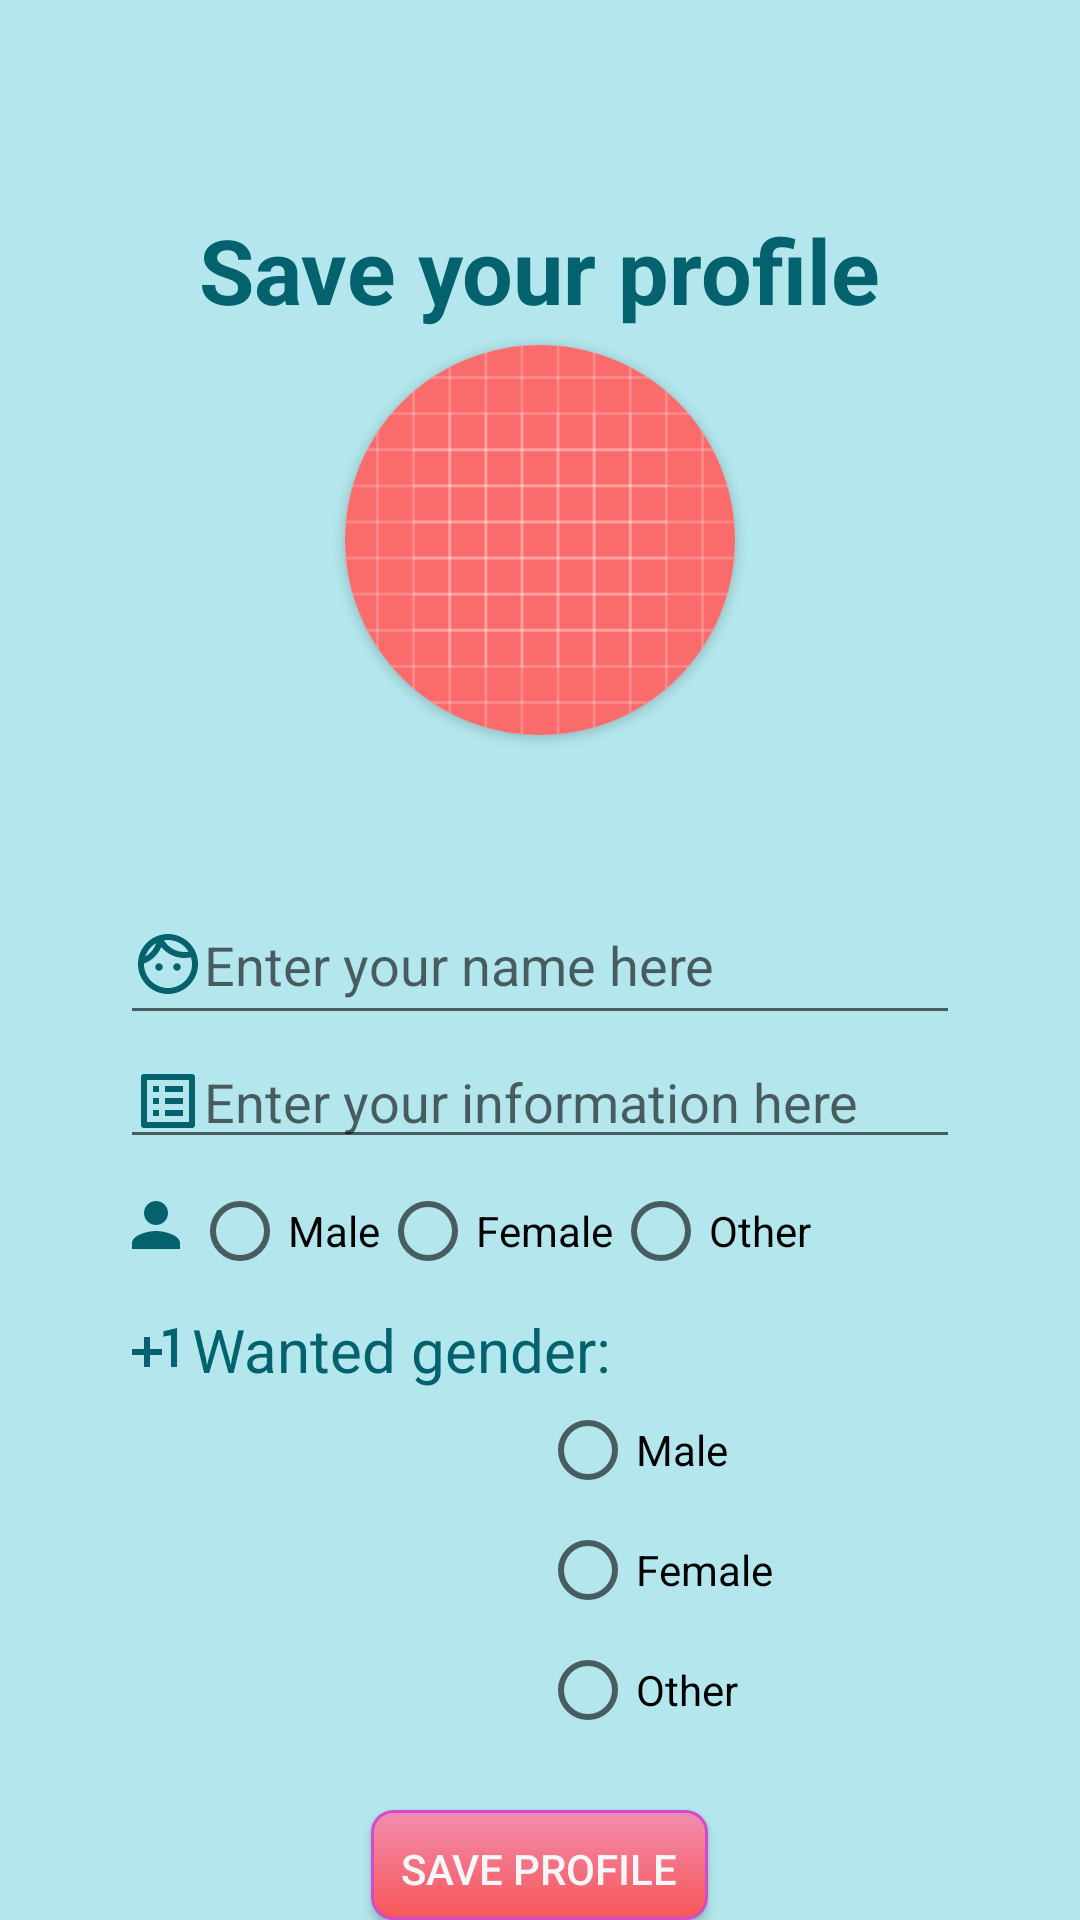

Named icons in this screenshot (1080px×1920px) and their centers, (x,y):
person: (156,1225)
